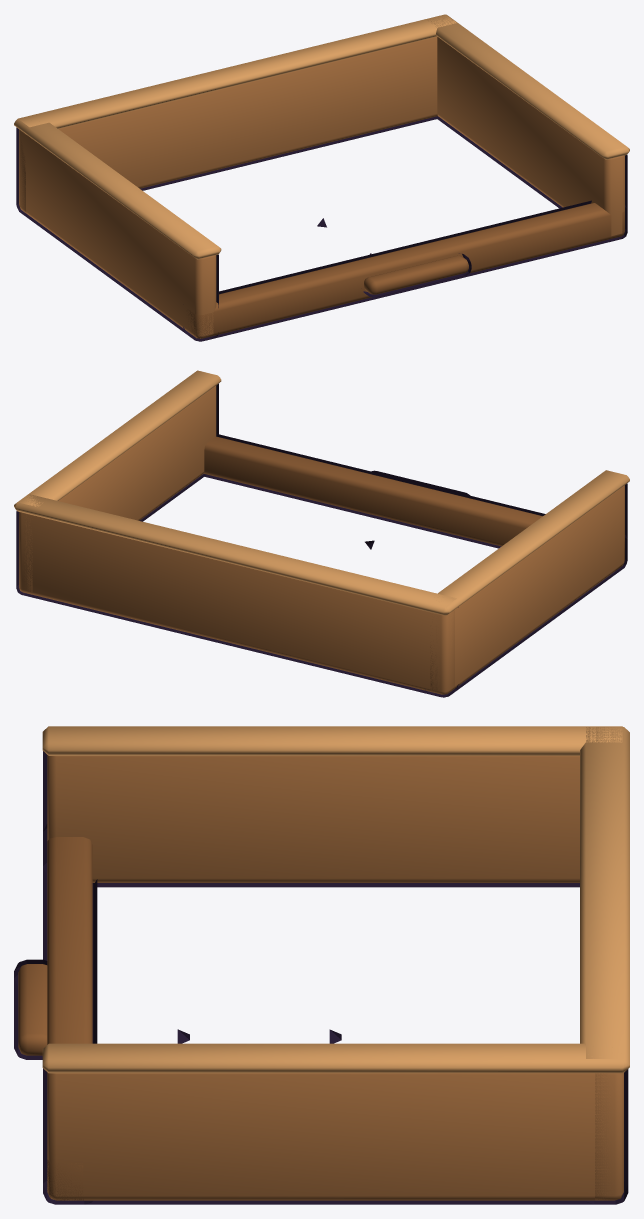
Rendered from Drawer.glb.
The picture shows the model from 3 angles, top to bottom: view 1: azimuth 30°, elevation 25°; view 2: azimuth 150°, elevation 25°; view 3: azimuth 270°, elevation 25°; orthographic projection. The views are drawn at different scales.
Parts seen in each view (by area): view 1: Drawer, Drawer_Outline; view 2: Drawer, Drawer_Outline; view 3: Drawer, Drawer_Outline.
Part boxes in pixels (x1,y1,x2,y2): Drawer: (14, 14, 629, 338); Drawer_Outline: (16, 116, 627, 341); Drawer: (14, 370, 629, 694); Drawer_Outline: (16, 383, 627, 697); Drawer: (18, 726, 629, 1200); Drawer_Outline: (14, 751, 628, 1204).
Size of the model in its own units: 5.28 by 1.09 by 4.06.
Materials: 1 (1 with a texture image).
